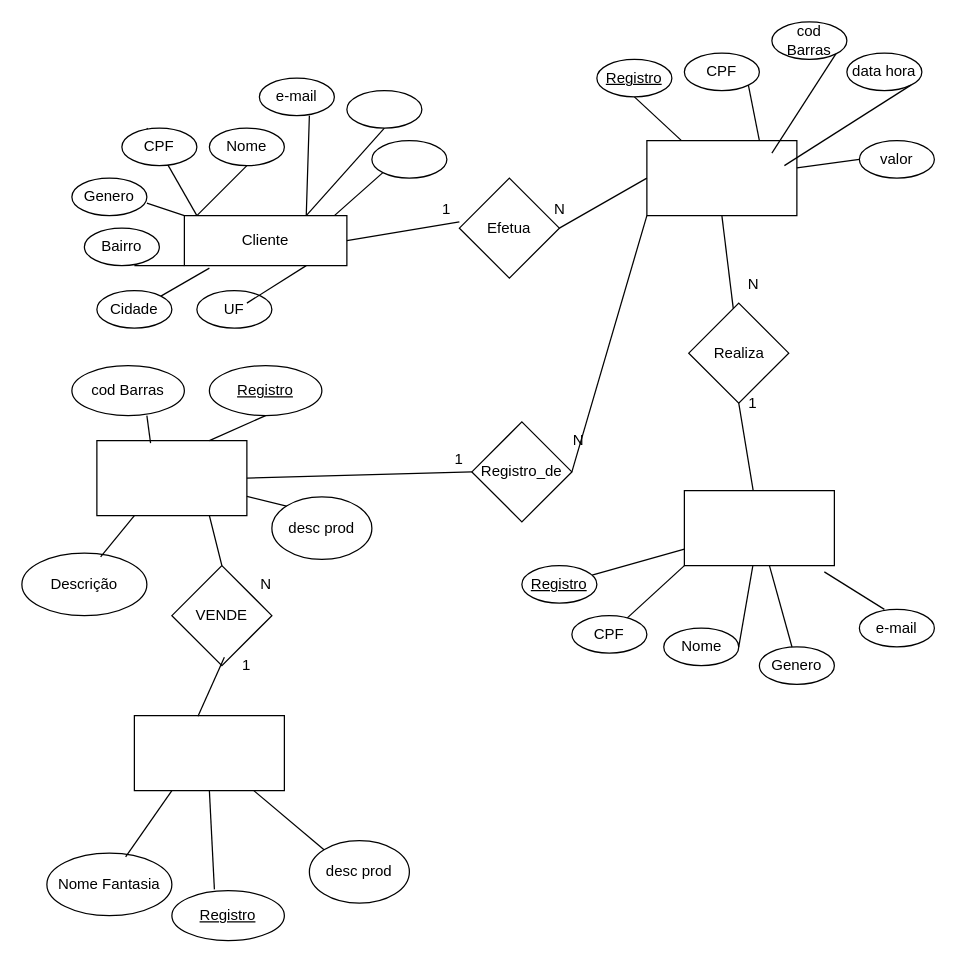
The diagram is 956 pixels wide and 963 high, and some of its shapes have lost their labels. The shapes that lost their labels are listed below. From the top down, each one's centre as x and y in pixels, then its label:
point (384, 108): Salario
point (409, 158): nascimento
point (721, 177): Venda
point (171, 477): Produto
point (758, 527): Vendedor
point (208, 752): Fornecedor
